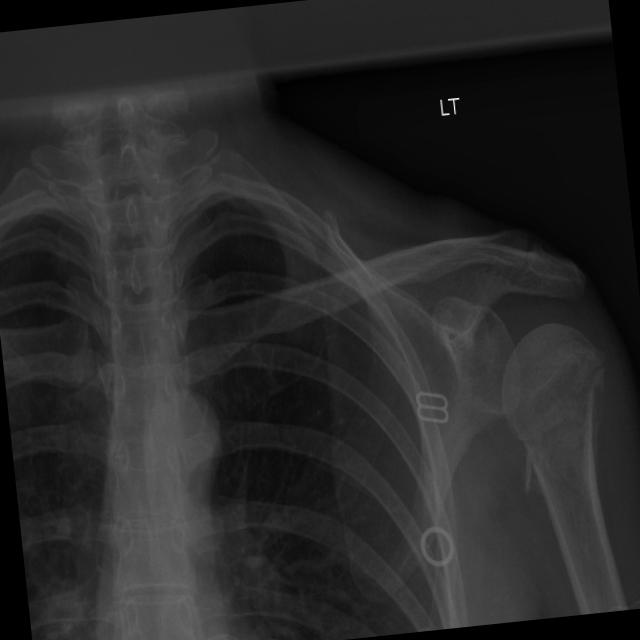shoulder fracture: (548, 325, 636, 413), (489, 224, 553, 285)
